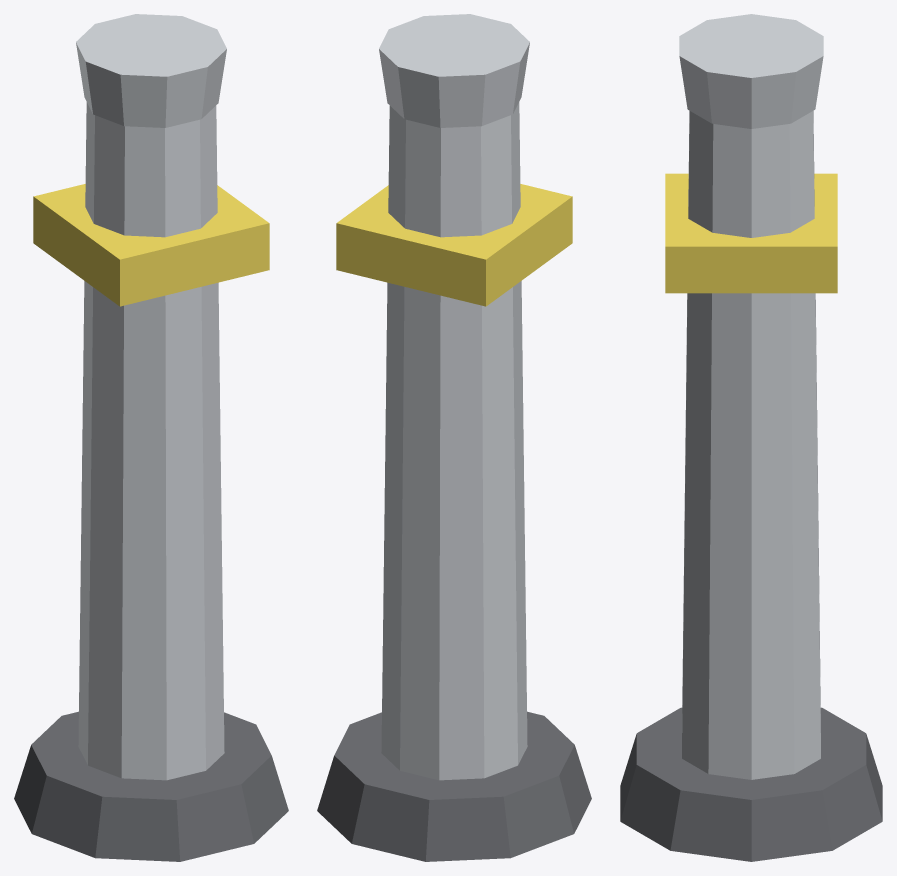
Rendered from bollard.glb.
3 views of the same model, side by side, from view 1: azimuth 30°, elevation 25°; view 2: azimuth 150°, elevation 25°; view 3: azimuth 270°, elevation 25° (orthographic).
Parts seen in each view (by area): view 1: street-bollard-steel, street-bollard-charcoal, street-bollard-canary; view 2: street-bollard-steel, street-bollard-charcoal, street-bollard-canary; view 3: street-bollard-steel, street-bollard-charcoal, street-bollard-canary.
Boxes of the visible parts, box(x1,y1,x2,y2) form: street-bollard-steel: box(76, 14, 226, 780); street-bollard-charcoal: box(14, 711, 288, 861); street-bollard-canary: box(33, 184, 269, 306); street-bollard-steel: box(379, 14, 529, 780); street-bollard-charcoal: box(317, 711, 591, 861); street-bollard-canary: box(336, 184, 572, 306); street-bollard-steel: box(679, 14, 823, 779); street-bollard-charcoal: box(620, 707, 882, 861); street-bollard-canary: box(665, 173, 837, 293).
Bounding box in the file's own units: 0.32 × 0.97 × 0.3043.
